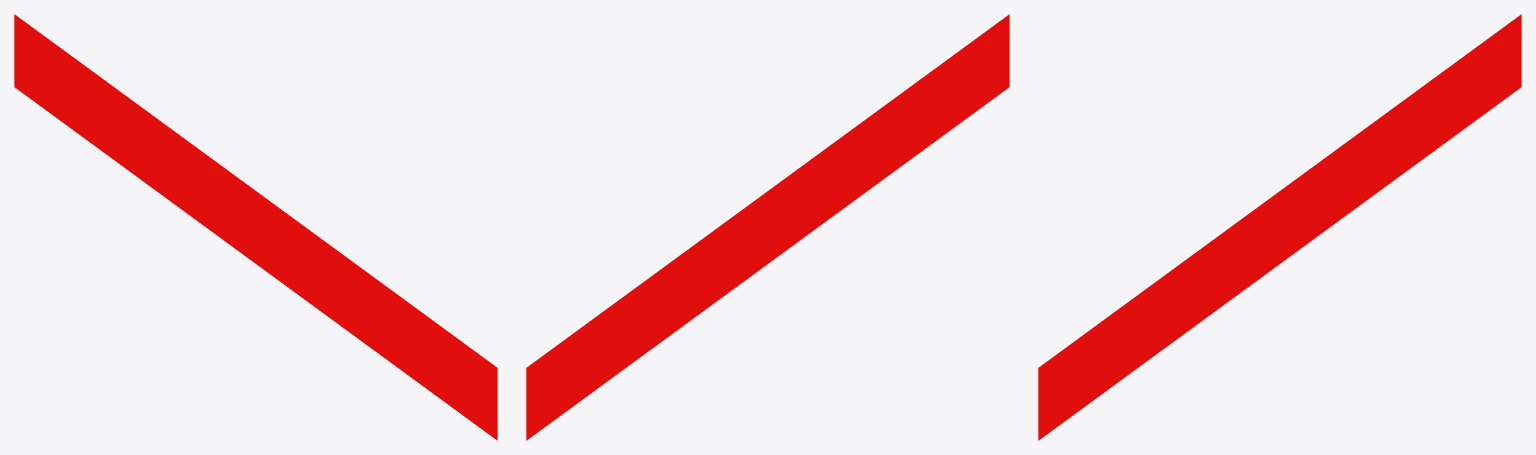
File: Vege_GrassStraightSect01_01.FBX
3 views of the same model, side by side, from view 1: azimuth 30°, elevation 25°; view 2: azimuth 150°, elevation 25°; view 3: azimuth 330°, elevation 25° (orthographic).
Parts seen in each view (by area): view 1: Vege_GrassStraightSect01_01; view 2: Vege_GrassStraightSect01_01; view 3: Vege_GrassStraightSect01_01.
Part boxes in pixels (left/top/right/bottom): Vege_GrassStraightSect01_01: left=14, top=14, right=497, bottom=440; Vege_GrassStraightSect01_01: left=526, top=14, right=1009, bottom=440; Vege_GrassStraightSect01_01: left=1038, top=14, right=1521, bottom=440.
Size of the model in its own units: 7.61e-06 by 25 by 300.
